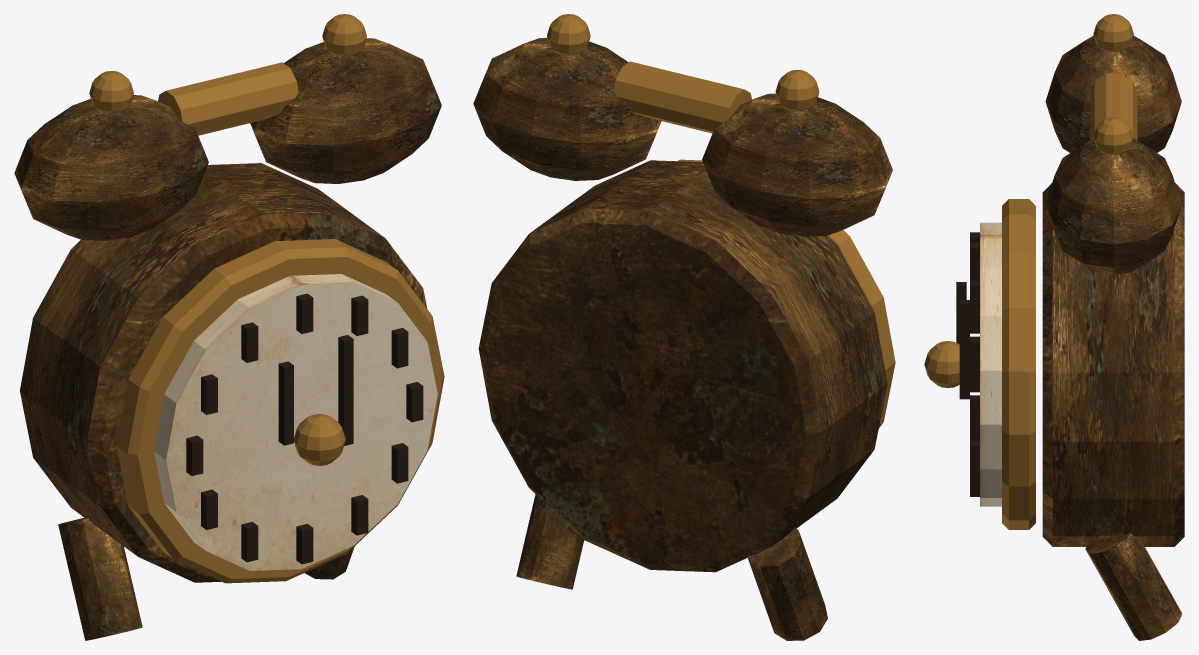
Rendered from bedside_alarm_clock.glb.
3 views of the same model, side by side, from view 1: azimuth 30°, elevation 25°; view 2: azimuth 150°, elevation 25°; view 3: azimuth 270°, elevation 25° (orthographic). The views are drawn at different scales.
Parts seen in each view (by area): view 1: ClockFace, ClockBody, ClockRim, ClockBell, ClockBell.001, ClockFoot, ClockHammer, ClockHub, ClockMinuteHand, ClockBellCap.001, ClockBellCap, ClockHourHand (+13 smaller); view 2: ClockBody, ClockBell, ClockBell.001, ClockHammer, ClockFoot, ClockFoot.001, ClockRim, ClockBellCap.001, ClockBellCap; view 3: ClockBody, ClockBell.001, ClockRim, ClockBell, ClockFace, ClockFoot.001, ClockHammer, ClockHub, ClockBellCap, ClockBellCap.001, ClockMinuteHand.
Part boxes in pixels (<box>): ClockFace: <box>154,274,437,570</box>; ClockBody: <box>20,163,427,582</box>; ClockRim: <box>116,239,444,583</box>; ClockBell: <box>14,95,208,240</box>; ClockBell.001: <box>250,38,441,183</box>; ClockFoot: <box>58,517,142,640</box>; ClockHammer: <box>158,62,298,135</box>; ClockHub: <box>294,414,345,465</box>; ClockMinuteHand: <box>338,335,353,445</box>; ClockBellCap.001: <box>322,14,366,56</box>; ClockBellCap: <box>89,71,133,113</box>; ClockHourHand: <box>278,361,293,445</box>; ClockBody: <box>478,160,887,572</box>; ClockBell: <box>702,93,892,236</box>; ClockBell.001: <box>473,37,661,180</box>; ClockHammer: <box>614,61,751,133</box>; ClockFoot: <box>747,528,827,640</box>; ClockFoot.001: <box>516,494,584,589</box>; ClockRim: <box>677,159,895,427</box>; ClockBellCap.001: <box>547,14,590,55</box>; ClockBellCap: <box>775,69,819,111</box>; ClockBody: <box>1042,183,1184,546</box>; ClockBell.001: <box>1045,138,1181,274</box>; ClockRim: <box>1002,199,1035,529</box>; ClockBell: <box>1045,35,1181,152</box>; ClockFace: <box>980,222,1001,506</box>; ClockFoot.001: <box>1085,533,1182,640</box>; ClockHammer: <box>1090,73,1137,140</box>; ClockHub: <box>924,341,959,387</box>; ClockBellCap: <box>1093,14,1133,51</box>; ClockBellCap.001: <box>1093,117,1133,154</box>; ClockMinuteHand: <box>959,300,969,399</box>.
Bounding box in the file's own units: 0.128 × 0.1689 × 0.077.
4 materials, 2 textured.
